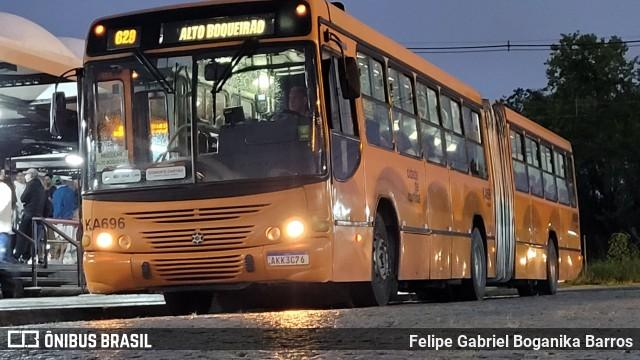ALTO BOQUEIRAO: (175, 16, 268, 46)
